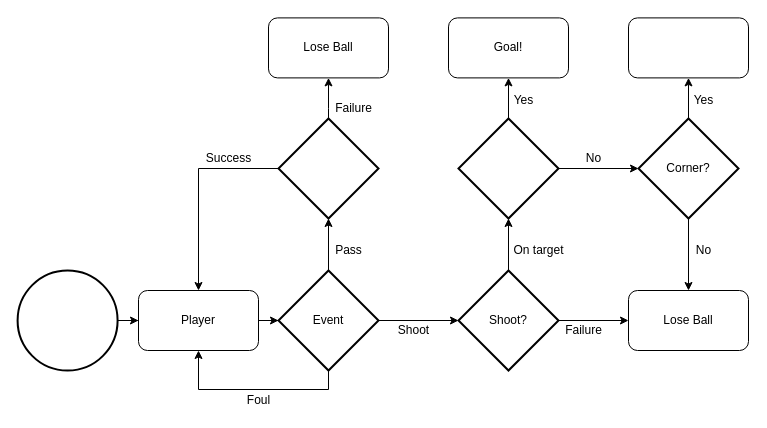
Image size: 767x428. Some labels were removed from this diagram. Each missing label, with the centre of its shape:
"Corner" goes at (x=688, y=47).
"Goal?" goes at (x=508, y=168).
"Pass?" goes at (x=328, y=168).
"Start" goes at (x=67, y=320).
